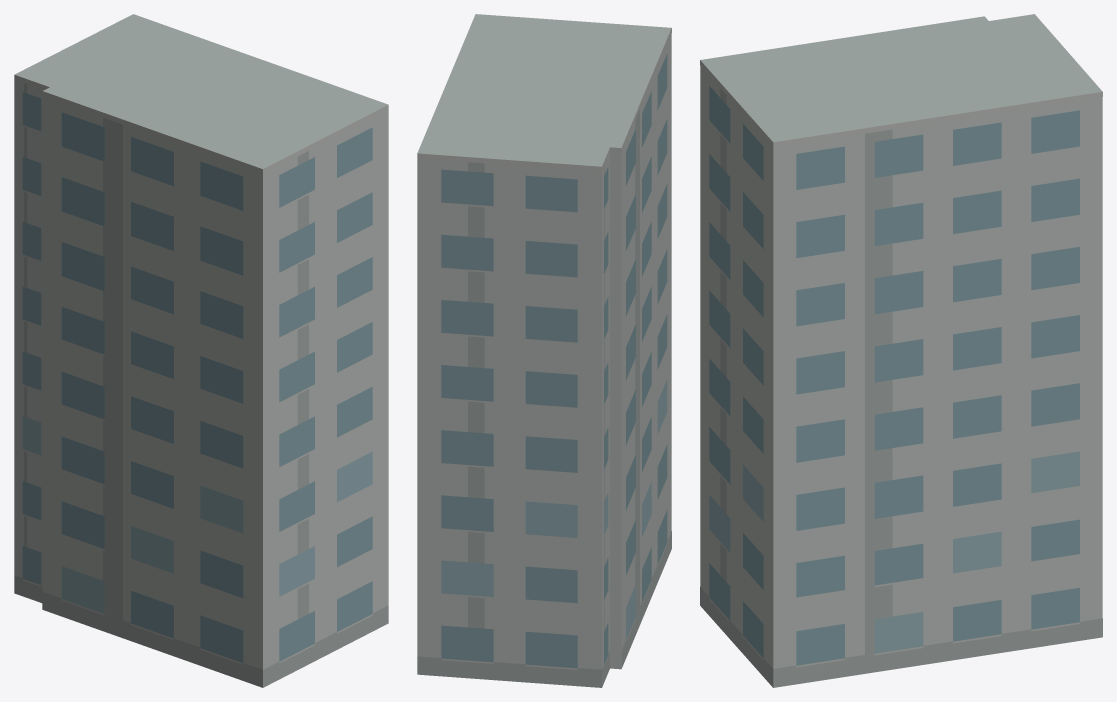
Rendered from survey-upis-32605249.glb.
3 renders of one model, left to right at view 1: azimuth 30°, elevation 25°; view 2: azimuth 150°, elevation 25°; view 3: azimuth 270°, elevation 25°, orthographic. The views are drawn at different scales.
Parts seen in each view (by area): view 1: survey-upis-32605249.tmp; view 2: survey-upis-32605249.tmp; view 3: survey-upis-32605249.tmp.
Boxes of the visible parts, left/top/right/bottom form: survey-upis-32605249.tmp: left=14, top=14, right=388, bottom=687; survey-upis-32605249.tmp: left=417, top=14, right=671, bottom=687; survey-upis-32605249.tmp: left=700, top=14, right=1102, bottom=687.
Size of the model in its own units: 12.47 by 24.7 by 16.53.
